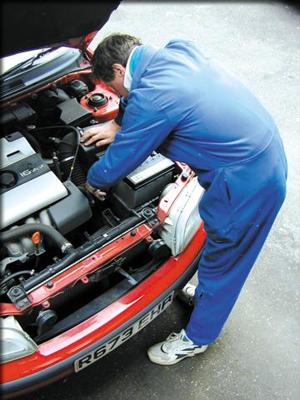person: (82, 32, 288, 368)
